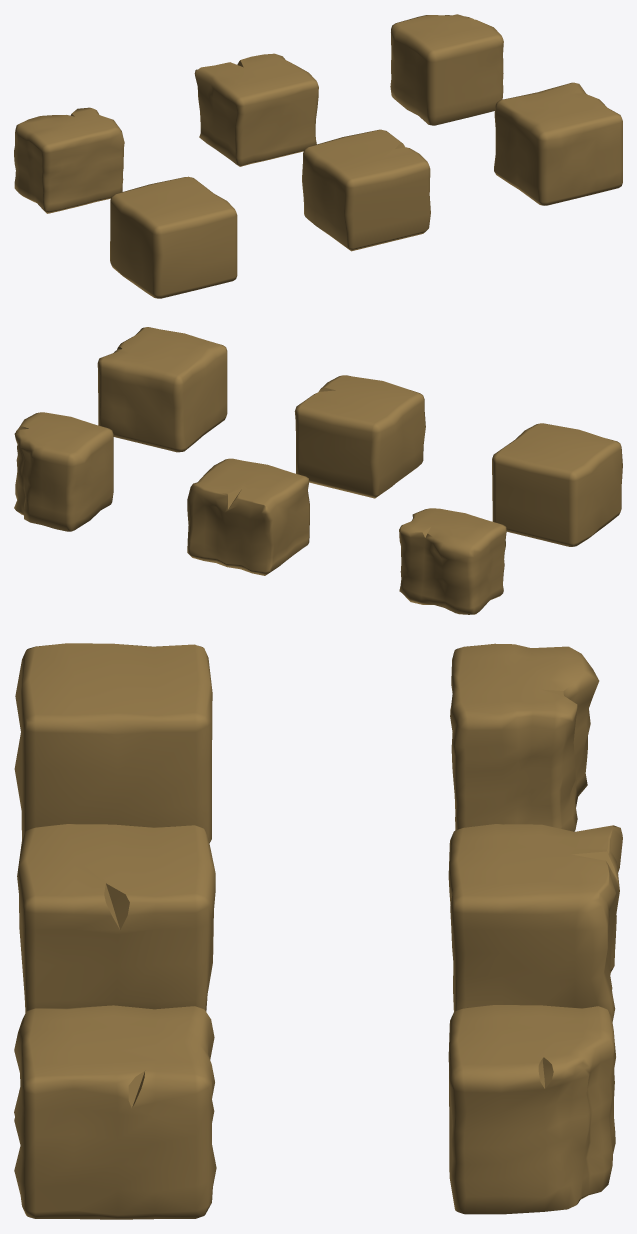
The model's file is Sandstone_Brick_Mesh.fbx.
The picture shows the model from 3 angles, top to bottom: view 1: azimuth 30°, elevation 25°; view 2: azimuth 150°, elevation 25°; view 3: azimuth 270°, elevation 25°; orthographic projection. The views are drawn at different scales.
Parts seen in each view (by area): view 1: pCube158, polySurface1290, polySurface1289, polySurface1292, polySurface1291, polySurface1293; view 2: pCube158, polySurface1290, polySurface1289, polySurface1292, polySurface1291, polySurface1293; view 3: polySurface1290, pCube158, polySurface1289, polySurface1291, polySurface1292, polySurface1293.
Part boxes in pixels (box(x1,y1,x2,y2)): pCube158: box(110, 176, 237, 298); polySurface1290: box(494, 82, 622, 205); polySurface1289: box(302, 129, 430, 251); polySurface1292: box(194, 53, 318, 166); polySurface1291: box(390, 14, 503, 125); polySurface1293: box(14, 107, 124, 213); pCube158: box(492, 423, 622, 546); polySurface1290: box(97, 327, 227, 452); polySurface1289: box(294, 375, 425, 498); polySurface1292: box(187, 458, 309, 575); polySurface1291: box(14, 412, 113, 531); polySurface1293: box(399, 508, 506, 614); polySurface1290: box(14, 1005, 216, 1219); pCube158: box(14, 643, 212, 842); polySurface1289: box(17, 824, 215, 1012); polySurface1291: box(448, 1005, 615, 1214); polySurface1292: box(448, 824, 622, 1021); polySurface1293: box(450, 643, 599, 831).
Bounding box in the file's own units: 82.34 × 12.79 × 47.44.
